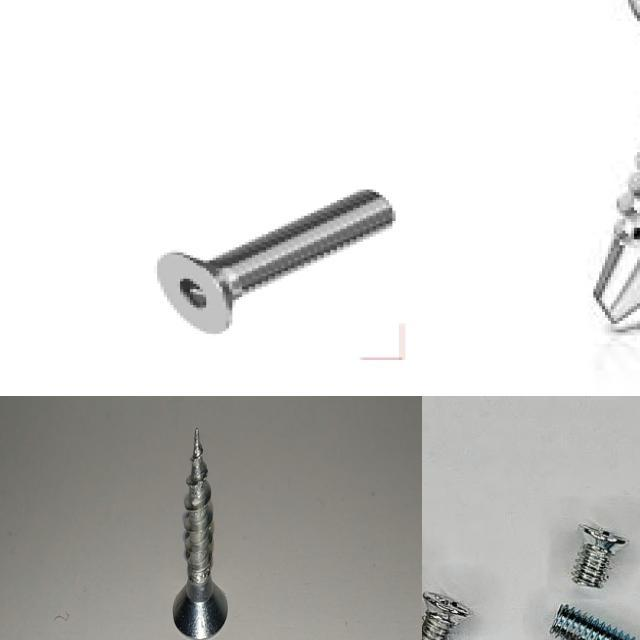Screw: (157, 190, 399, 336), (173, 427, 228, 639), (572, 521, 628, 588), (422, 592, 473, 640)
